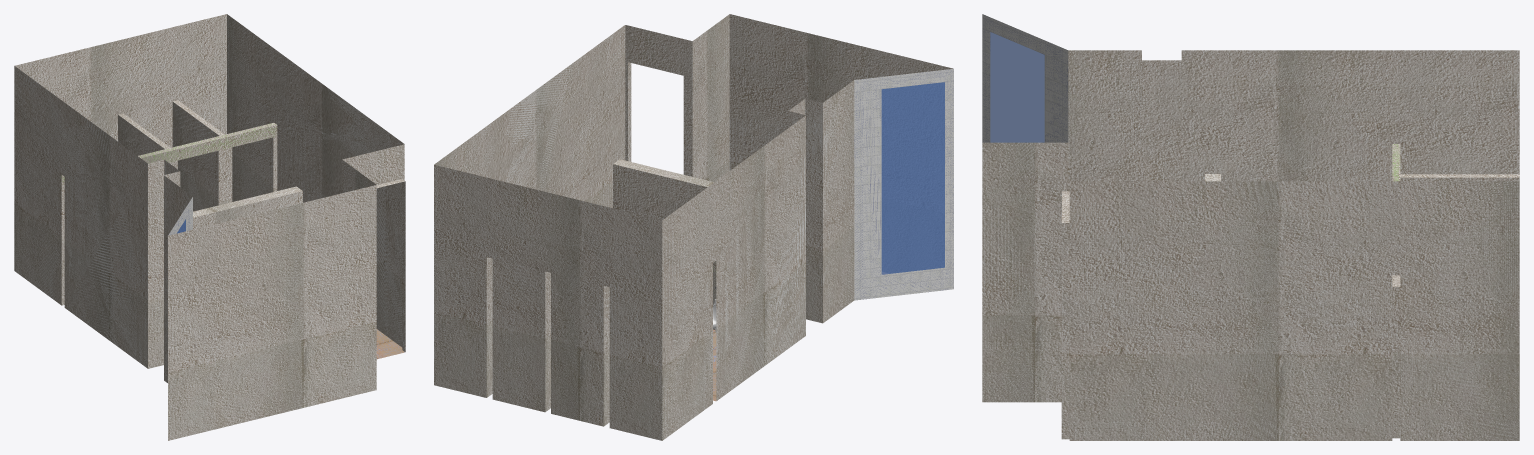
The model's file is COM018.obj.
The picture shows the model from 3 angles, left to right: view 1: azimuth 30°, elevation 25°; view 2: azimuth 150°, elevation 25°; view 3: azimuth 270°, elevation 25°; orthographic projection. The views are drawn at different scales.
Parts seen in each view (by area): view 1: Mesh91 COM018 Model; view 2: Mesh91 COM018 Model; view 3: Mesh91 COM018 Model.
Boxes of the visible parts, bbox=[...] form: Mesh91 COM018 Model: bbox=[14, 14, 405, 440]; Mesh91 COM018 Model: bbox=[434, 14, 953, 440]; Mesh91 COM018 Model: bbox=[982, 14, 1519, 440].
Size of the model in its own units: 4.98 by 3.6 by 6.76.
8 materials, 3 textured.
